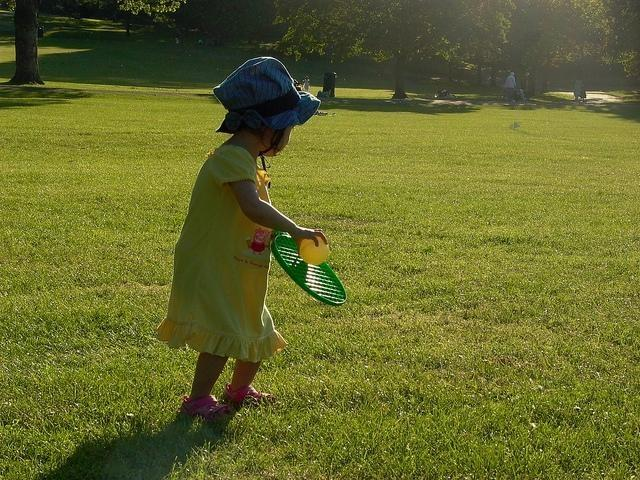bicycle: (497, 86, 509, 101)
